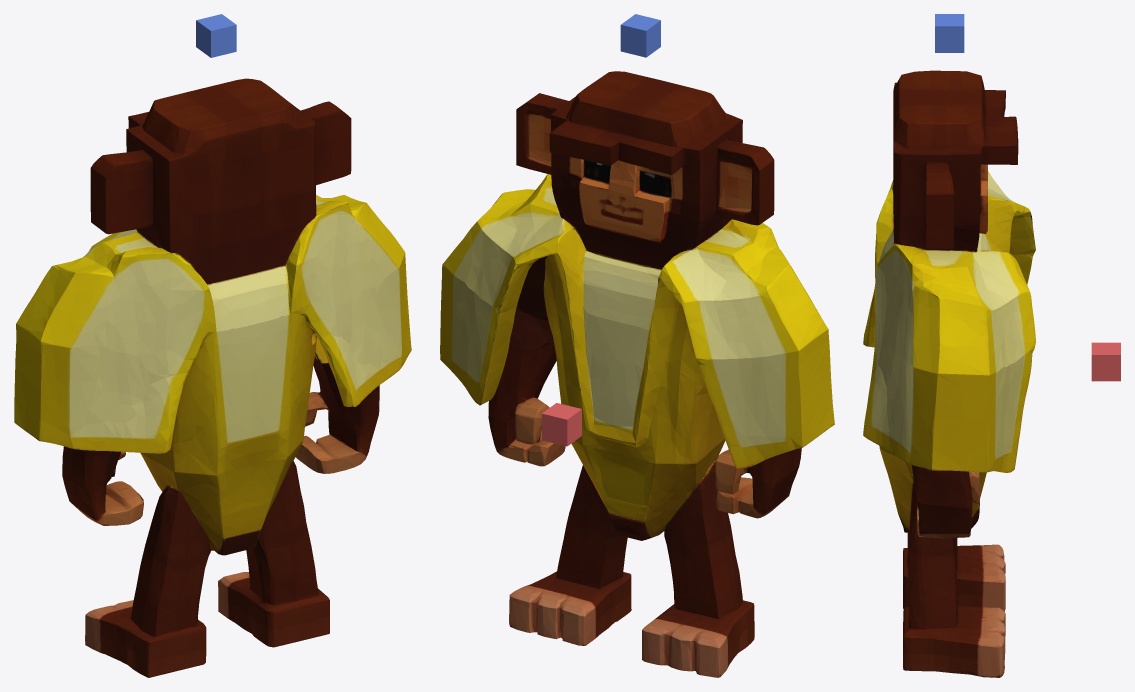
File: ChimpanziniBananini.glb
3 views of the same model, side by side, from view 1: azimuth 30°, elevation 25°; view 2: azimuth 150°, elevation 25°; view 3: azimuth 270°, elevation 25° (orthographic).
Parts seen in each view (by area): view 1: ChimpanziniBananini_Body, ChimpanziniBananini_Leg2, ChimpanziniBananini_Leg1, ChimpanziniBananini_Top; view 2: ChimpanziniBananini_Body, ChimpanziniBananini_Leg2, ChimpanziniBananini_Leg1, ChimpanziniBananini_Top, ChimpanziniBananini_Front; view 3: ChimpanziniBananini_Body, ChimpanziniBananini_Leg1, ChimpanziniBananini_Leg2, ChimpanziniBananini_Front, ChimpanziniBananini_Top.
Boxes of the visible parts, bbox=[...] form: ChimpanziniBananini_Body: bbox=[14, 78, 411, 659]; ChimpanziniBananini_Leg2: bbox=[85, 551, 206, 677]; ChimpanziniBananini_Leg1: bbox=[218, 528, 329, 647]; ChimpanziniBananini_Top: bbox=[196, 14, 236, 57]; ChimpanziniBananini_Body: bbox=[440, 71, 834, 657]; ChimpanziniBananini_Leg2: bbox=[642, 527, 754, 677]; ChimpanziniBananini_Leg1: bbox=[509, 514, 631, 645]; ChimpanziniBananini_Top: bbox=[620, 14, 660, 57]; ChimpanziniBananini_Front: bbox=[542, 403, 581, 446]; ChimpanziniBananini_Body: bbox=[863, 70, 1035, 572]; ChimpanziniBananini_Leg1: bbox=[903, 547, 1005, 677]; ChimpanziniBananini_Leg2: bbox=[903, 532, 1005, 611]; ChimpanziniBananini_Front: bbox=[1091, 342, 1120, 381]; ChimpanziniBananini_Top: bbox=[935, 14, 964, 52].
Size of the model in its own units: 3.62 by 5.72 by 2.2.
1 material, 1 textured.
